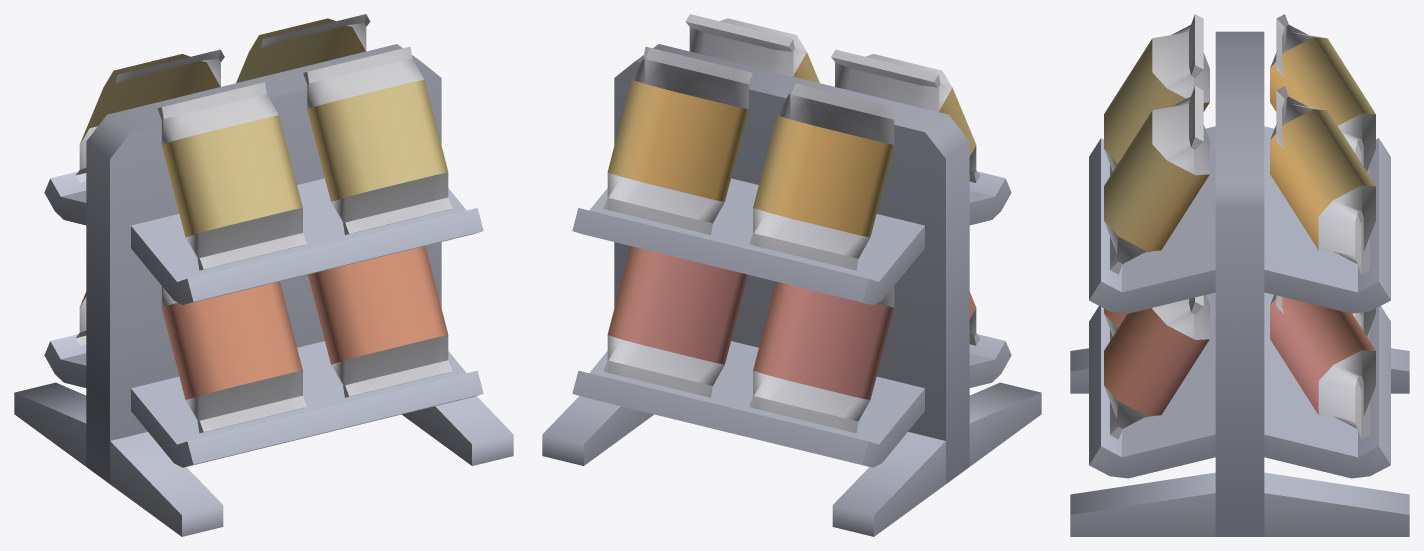
File: shelf-bags.glb
3 views of the same model, side by side, from view 1: azimuth 30°, elevation 25°; view 2: azimuth 150°, elevation 25°; view 3: azimuth 270°, elevation 25° (orthographic).
Parts seen in each view (by area): view 1: shelf-bags; view 2: shelf-bags; view 3: shelf-bags.
Part boxes in pixels (bbox=[...]): shelf-bags: bbox=[14, 14, 513, 536]; shelf-bags: bbox=[542, 14, 1041, 536]; shelf-bags: bbox=[1070, 14, 1409, 536].
Bounding box in the file's own units: 0.8 × 0.8634 × 0.7.
